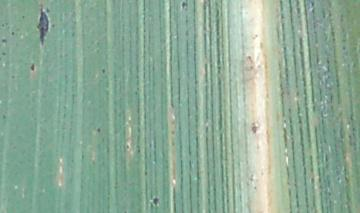tarspot: (35, 3, 50, 47), (249, 119, 258, 135), (150, 195, 160, 208), (28, 62, 37, 72), (179, 1, 189, 9), (99, 67, 107, 75), (1, 37, 9, 45), (95, 126, 102, 135), (45, 5, 52, 14), (124, 142, 130, 151), (10, 29, 16, 37), (1, 113, 7, 120), (143, 170, 148, 178), (50, 23, 56, 29), (1, 51, 8, 56), (10, 73, 15, 80), (1, 22, 6, 28), (21, 14, 25, 21)
